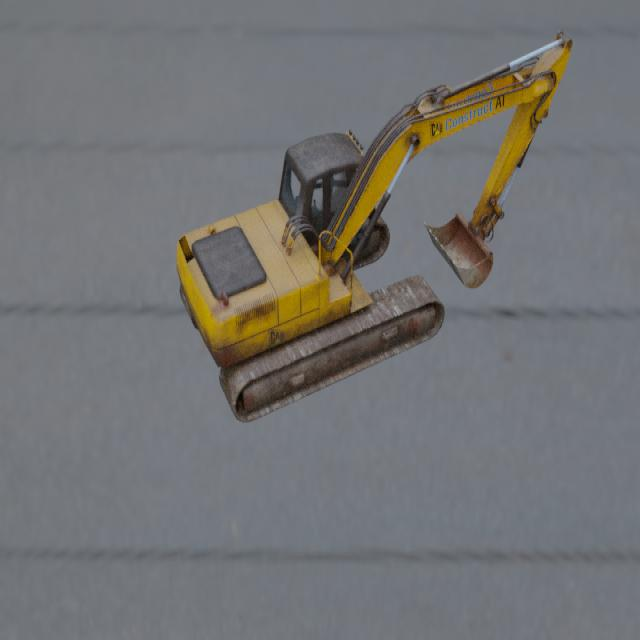excavator: (175, 29, 573, 423)
